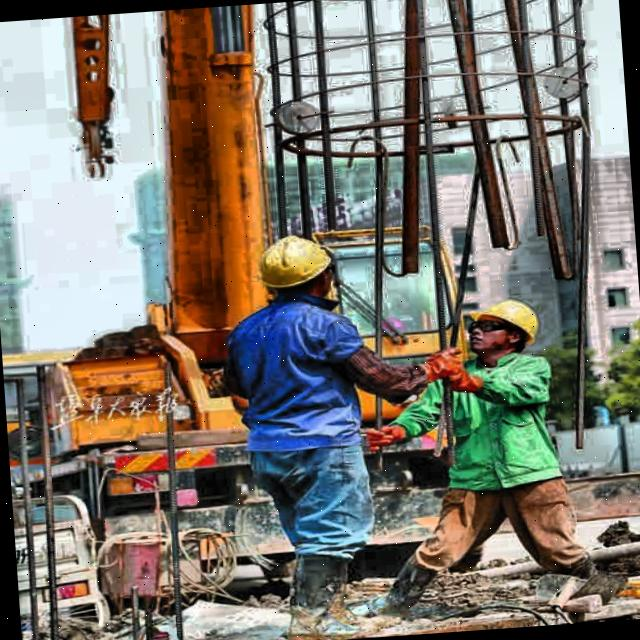helmet: (250, 224, 346, 312), (458, 292, 544, 362)
